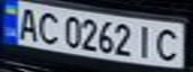0: (60, 14, 84, 50)
2: (112, 20, 136, 57), (78, 16, 100, 53)
6: (97, 19, 118, 55)
A: (12, 4, 42, 40)
C: (151, 25, 187, 63), (33, 9, 63, 45)
I: (133, 24, 157, 60)
